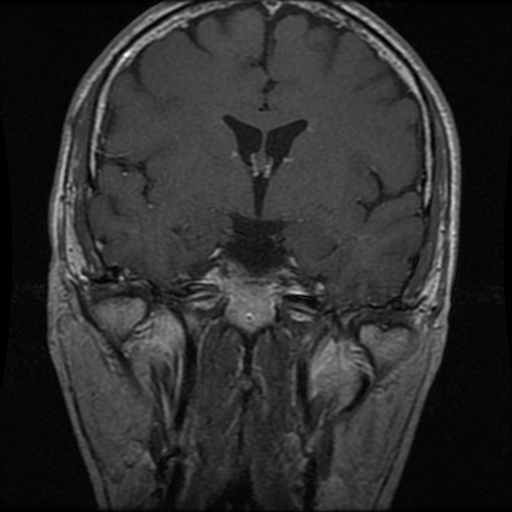pituitary: (201, 258, 285, 335)
